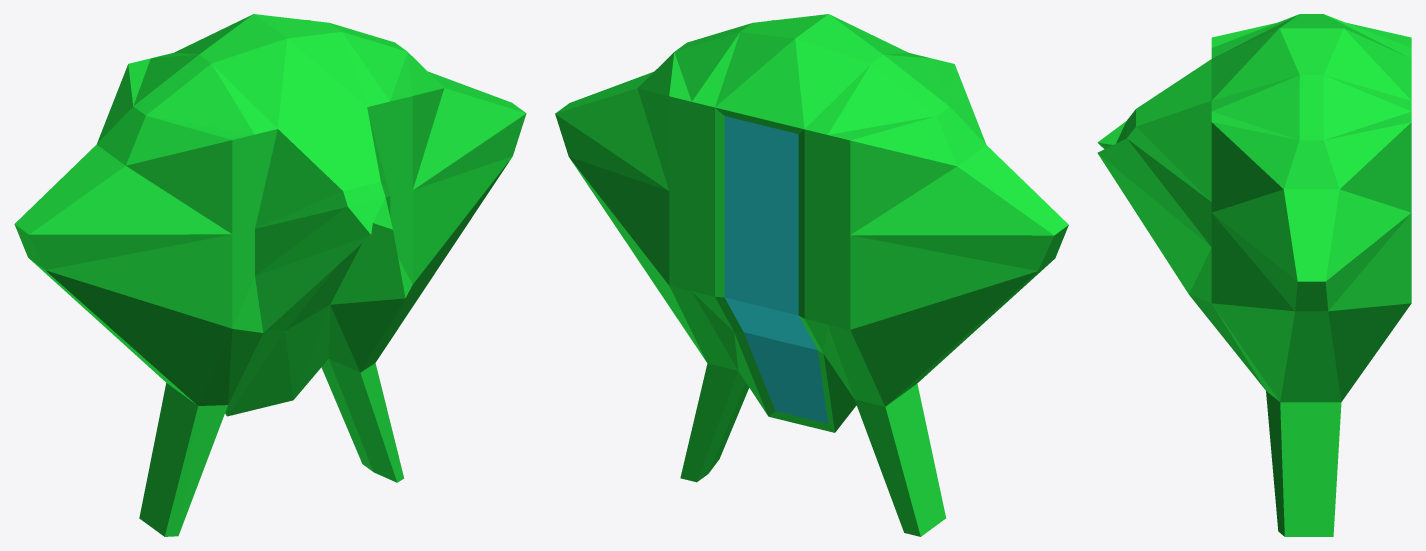
File: EnemyXorg.fbx
The picture shows the model from 3 angles, left to right: view 1: azimuth 30°, elevation 25°; view 2: azimuth 150°, elevation 25°; view 3: azimuth 270°, elevation 25°; orthographic projection. The views are drawn at different scales.
Visible parts, largest first — view 1: EnemyX; view 2: EnemyX; view 3: EnemyX.
Boxes of the visible parts, bbox=[...] form: EnemyX: bbox=[14, 14, 526, 536]; EnemyX: bbox=[555, 14, 1068, 536]; EnemyX: bbox=[1097, 14, 1411, 536].
Size of the model in its own units: 552 by 500 by 314.
